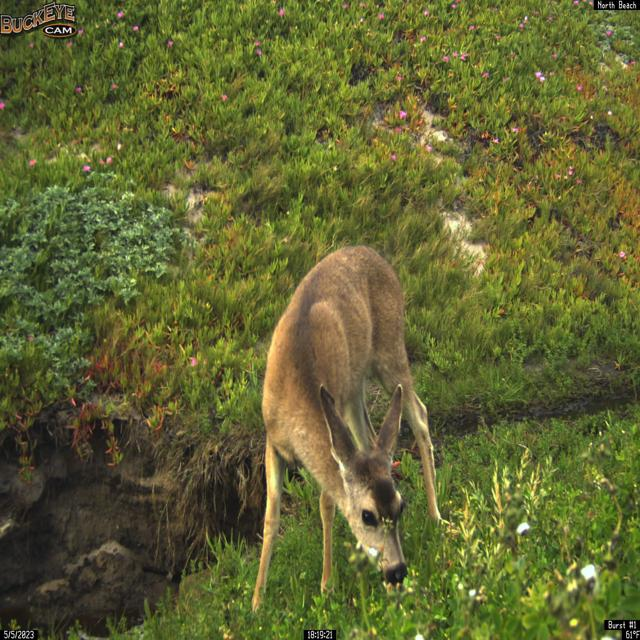deer: (249, 243, 443, 616)
